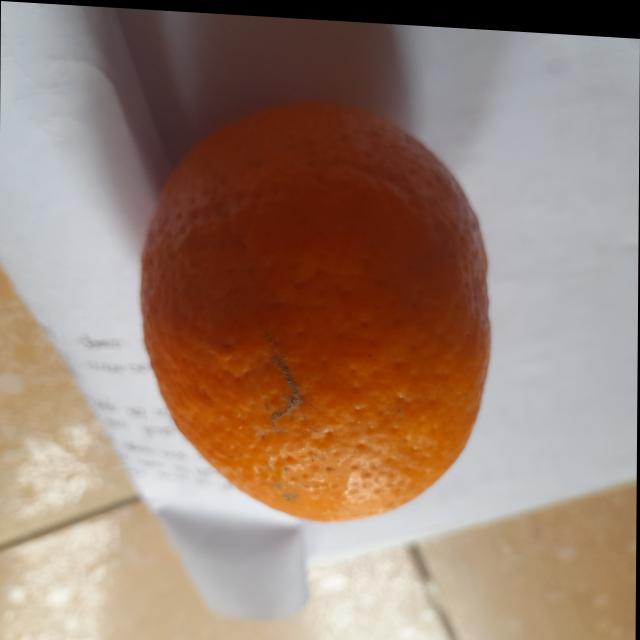Cam: (136, 95, 500, 530)
